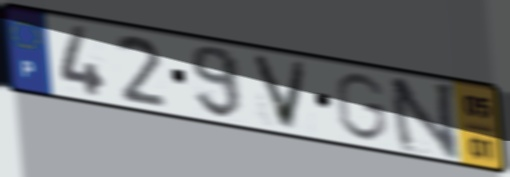2: (112, 33, 171, 108)
4: (57, 22, 109, 101)
9: (188, 44, 244, 124)
G: (331, 71, 390, 144)
N: (385, 76, 463, 162)
V: (248, 50, 312, 134)
